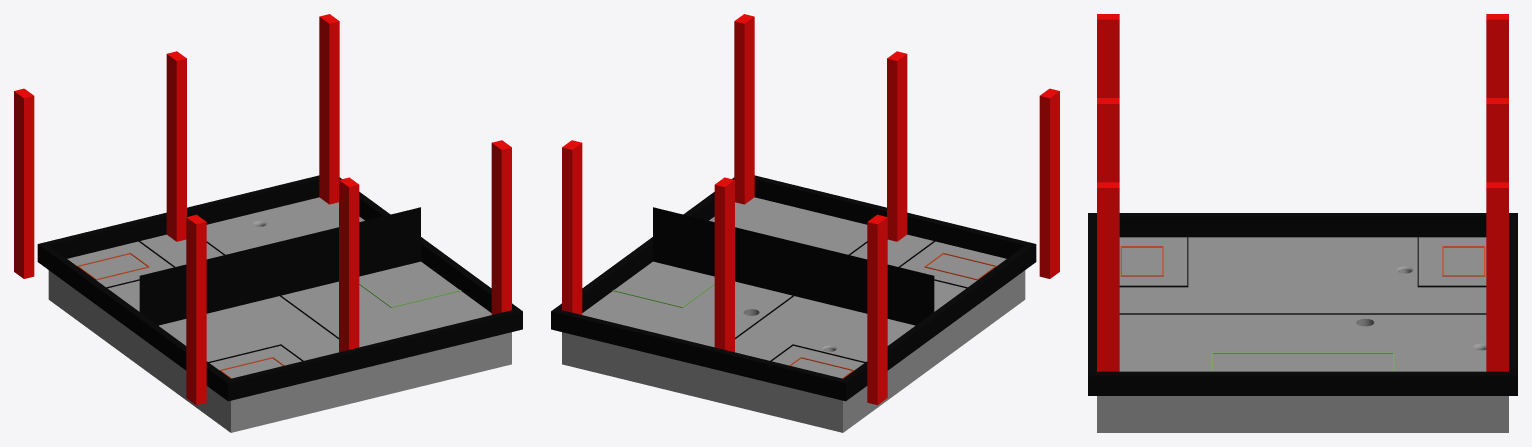
Rendered from UCF_field.dae.
3 renders of one model, left to right at view 1: azimuth 30°, elevation 25°; view 2: azimuth 150°, elevation 25°; view 3: azimuth 270°, elevation 25°, orthographic. The views are drawn at different scales.
Visible parts, largest first — view 1: 65fb58be8b11fb508f3112b9 (×8); view 2: 65fb58be8b11fb508f3112b9 (×8); view 3: 65fb58be8b11fb508f3112b9 (×10).
Part boxes in pixels (x1,y1,x2,y2): 65fb58be8b11fb508f3112b9 (×8): [14, 14, 522, 432]; 65fb58be8b11fb508f3112b9 (×8): [551, 14, 1059, 432]; 65fb58be8b11fb508f3112b9 (×10): [1088, 14, 1517, 432].
Size of the model in its own units: 9.34 by 9.54 by 6.
